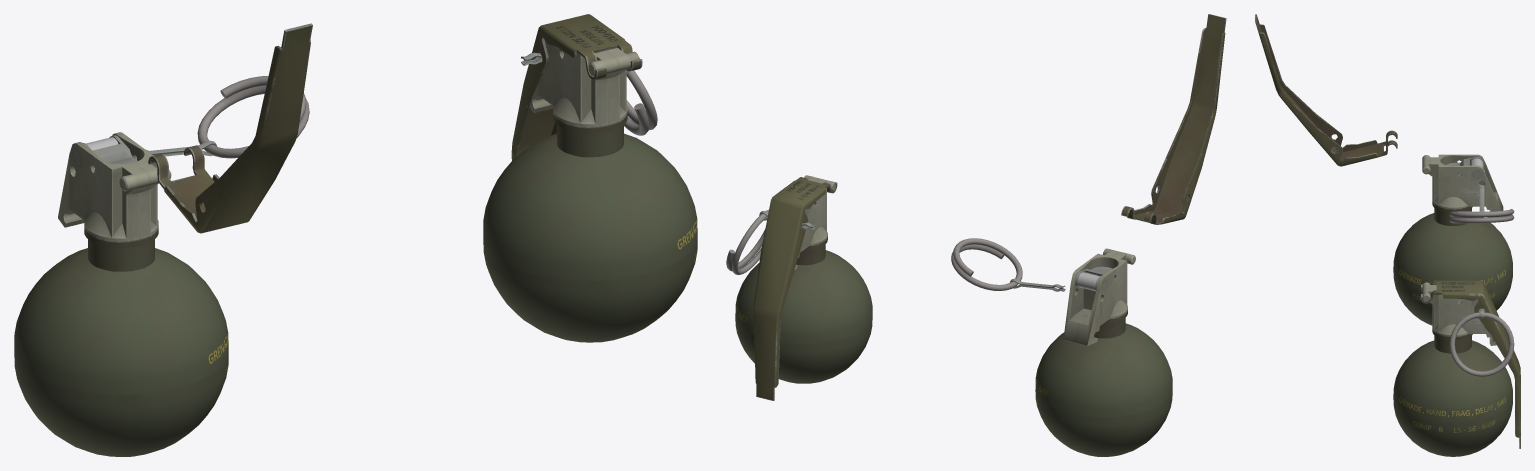
3 views of the same model, side by side, from view 1: azimuth 30°, elevation 25°; view 2: azimuth 150°, elevation 25°; view 3: azimuth 270°, elevation 25° (orthographic). The views are drawn at different scales.
Parts seen in each view (by area): view 1: m67_base.001, m67_base, m67_spoon.001, m67_spoon, m67_ring.001, m67_ring, m67_striker.001; view 2: m67_base.001, m67_base, m67_spoon, m67_spoon.001, m67_ring.001, m67_ring, m67_striker.001; view 3: m67_base, m67_base.001, m67_spoon.001, m67_spoon, m67_ring, m67_ring.001.
Boxes of the visible parts, x1,y1,x2,y2 form: m67_base.001: (14,132,228,456); m67_base: (483,39,697,342); m67_spoon.001: (148,23,312,233); m67_spoon: (511,14,642,160); m67_ring.001: (197,76,309,158); m67_ring: (624,70,657,135); m67_striker.001: (83,135,137,163); m67_base.001: (1035,248,1172,456); m67_base: (735,175,872,383); m67_spoon: (753,176,837,400); m67_spoon.001: (1121,14,1226,224); m67_ring.001: (951,238,1022,290); m67_ring: (726,210,768,274); m67_striker.001: (1075,266,1112,291); m67_base: (1393,282,1512,456); m67_base.001: (1393,154,1512,325); m67_spoon.001: (1255,14,1397,166); m67_spoon: (1420,280,1520,448); m67_ring: (1449,312,1514,376); m67_ring.001: (1449,209,1514,223).
Size of the model in its own units: 0.2077 by 0.1666 by 0.1312.
Materials: 1 (1 with a texture image).
